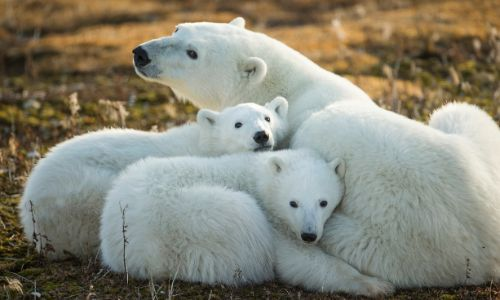bear: (115, 147, 342, 288), (129, 13, 335, 100), (25, 100, 303, 160)
